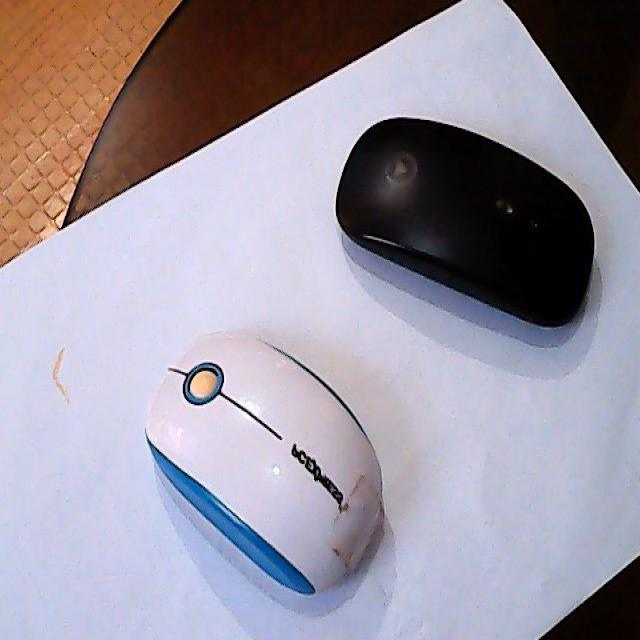mouse: (157, 356, 381, 582), (361, 145, 597, 319)
